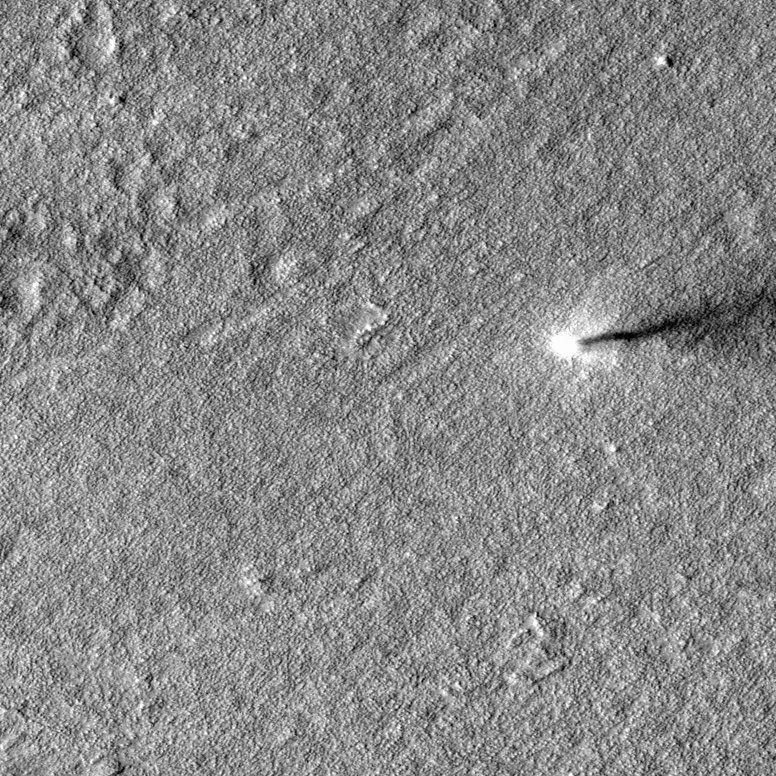dust_devil: (546, 283, 776, 365)
